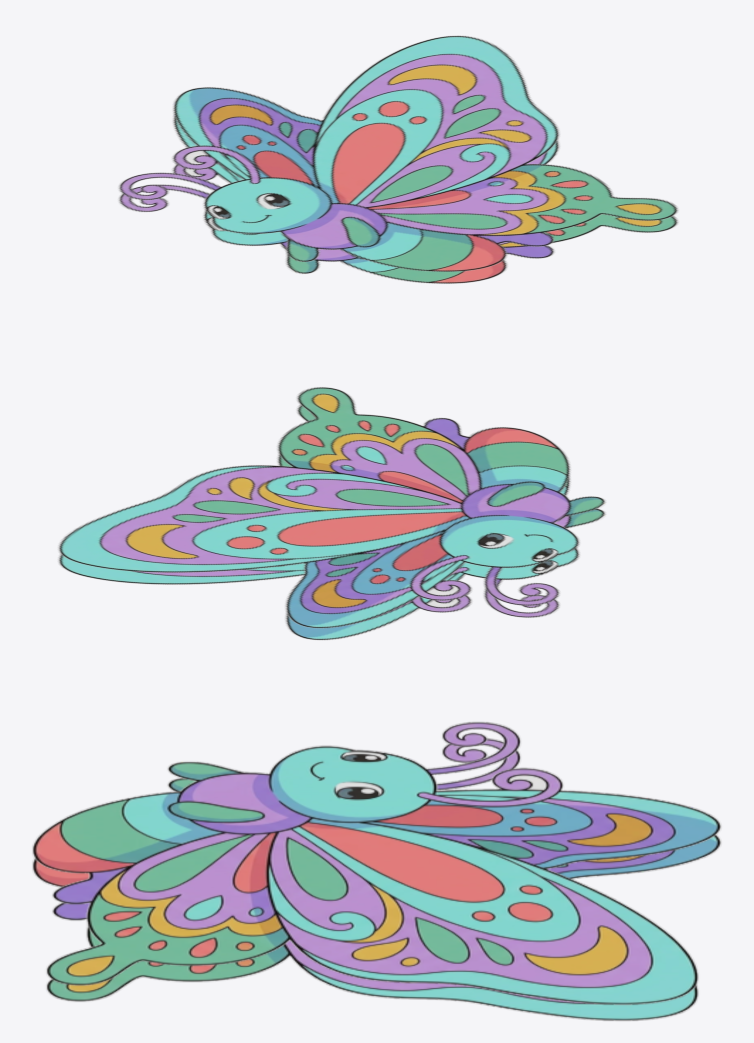
File: butterfly2.glb
The picture shows the model from 3 angles, top to bottom: view 1: azimuth 30°, elevation 25°; view 2: azimuth 150°, elevation 25°; view 3: azimuth 270°, elevation 25°; orthographic projection. The views are drawn at different scales.
Parts seen in each view (by area): view 1: butterfly2; view 2: butterfly2; view 3: butterfly2.
Boxes of the visible parts, x1,y1,x2,y2 form: butterfly2: [118, 35, 678, 283]; butterfly2: [58, 387, 605, 640]; butterfly2: [32, 721, 721, 1021].
Size of the model in its own units: 2 by 0.05 by 2.06.
1 material, 1 textured.
